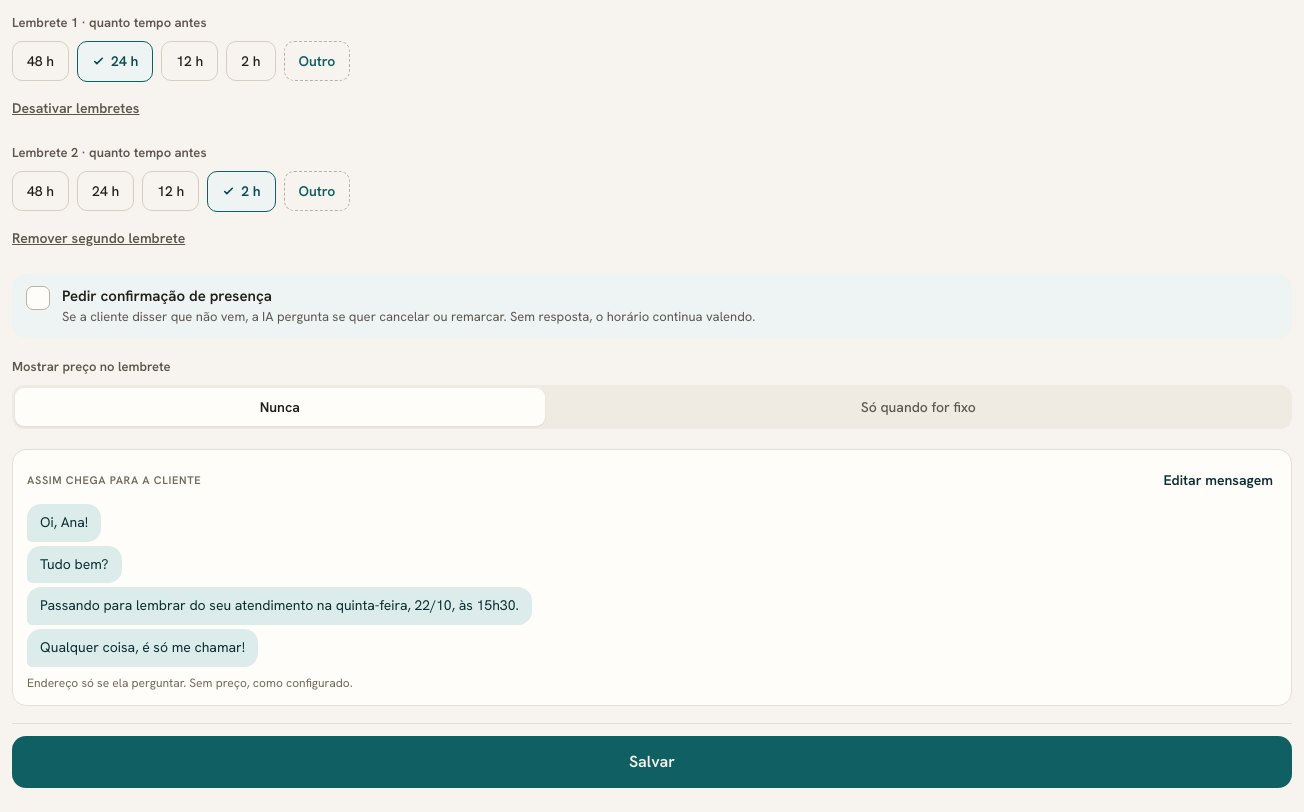
Test: 'Desativar lembretes' zera os dois lembretes, sem deixar o segundo órfão
This screenshot has width=1304, height=812.
Check: the text "Lembrete 2 · quanto tempo antes" is shown, box [12,144,206,161]
Click the button "Desativar lembretes" at {"x": 76, "y": 108}, box [12,92,140,124]
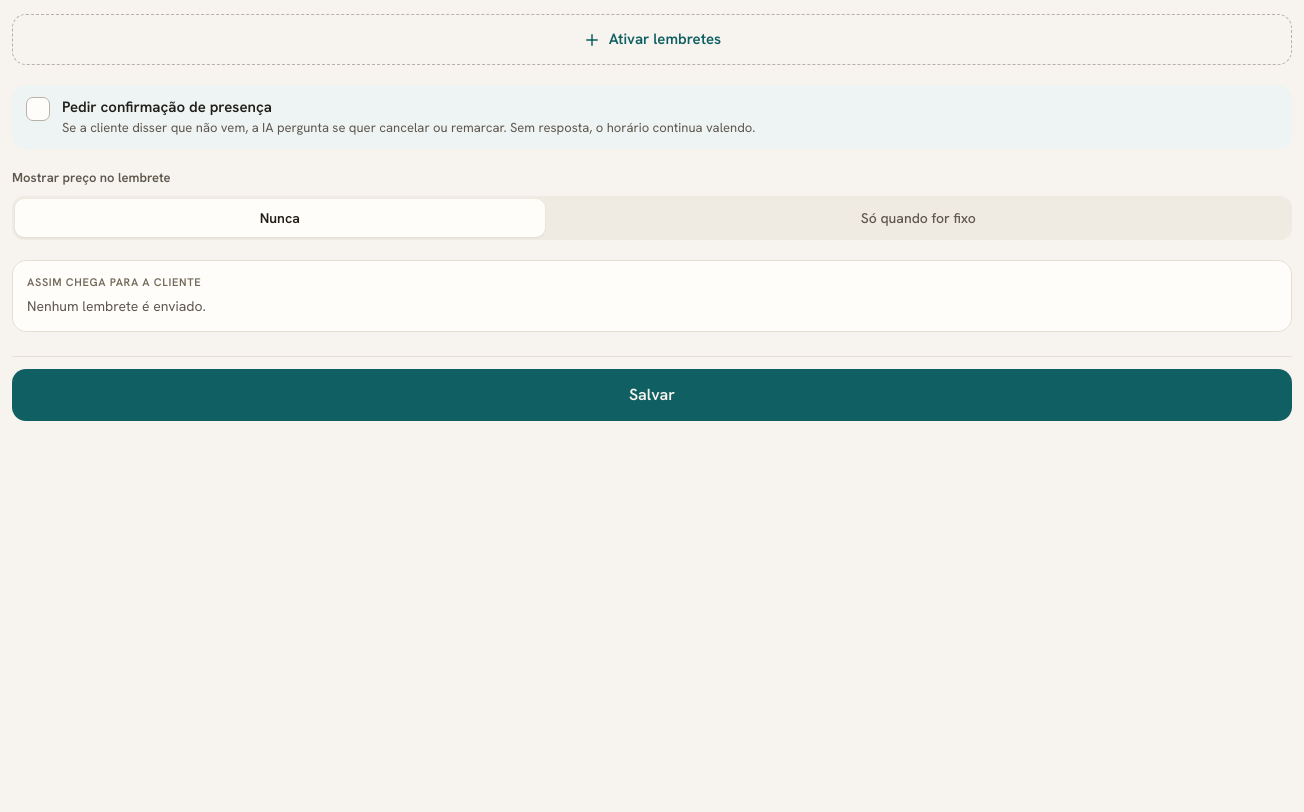
Check: the button "Ativar lembretes" is shown, box [12,14,1292,65]
Check: the text "Lembrete 1 · quanto tempo antes" is gone
Check: the text "Lembrete 2 · quanto tempo antes" is gone
